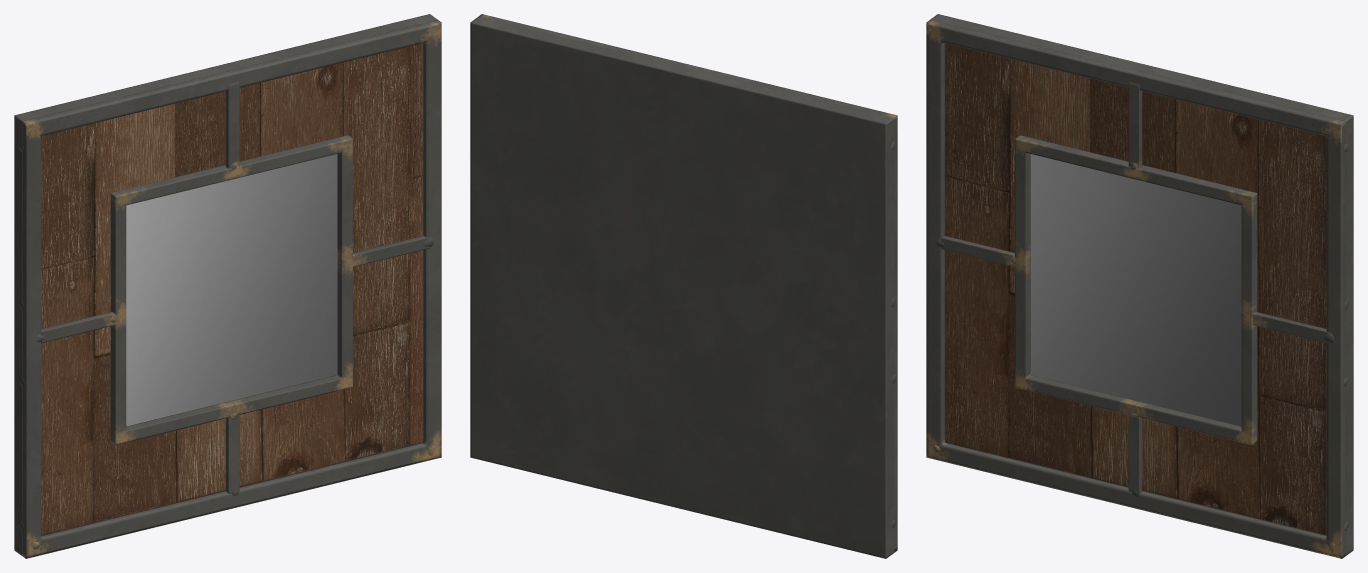
Rendered from mirror_B071V8LJQJ.glb.
3 views of the same model, side by side, from view 1: azimuth 30°, elevation 25°; view 2: azimuth 150°, elevation 25°; view 3: azimuth 330°, elevation 25° (orthographic).
Parts seen in each view (by area): view 1: RootNode; view 2: RootNode; view 3: RootNode.
Part boxes in pixels (left/top/right/bottom): RootNode: left=14, top=14, right=441, bottom=558; RootNode: left=470, top=14, right=897, bottom=558; RootNode: left=926, top=14, right=1353, bottom=558.
Size of the model in its own units: 0.3817 by 0.3805 by 0.0197.
Materials: 1 (1 with a texture image).
